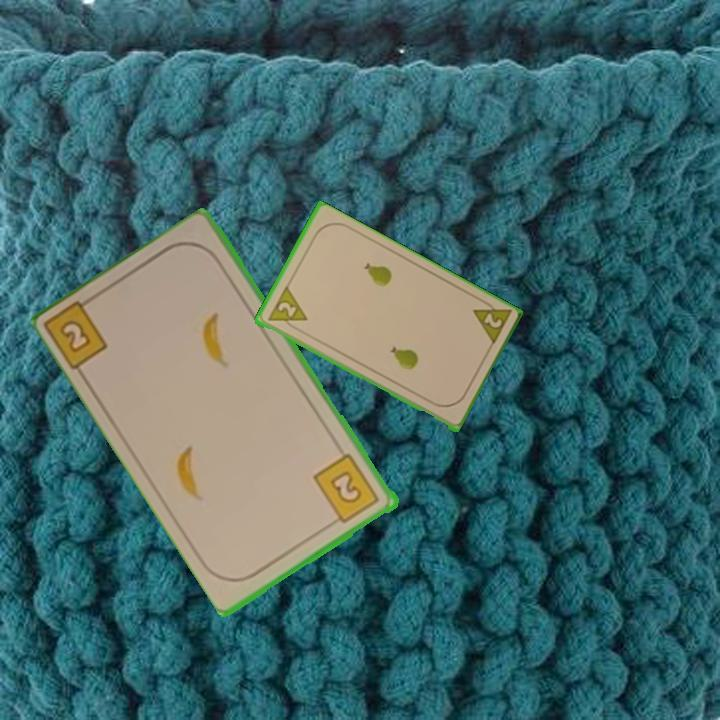2b: (310, 450, 383, 529), (44, 291, 112, 374)
2p: (468, 294, 514, 349), (263, 284, 310, 333)
